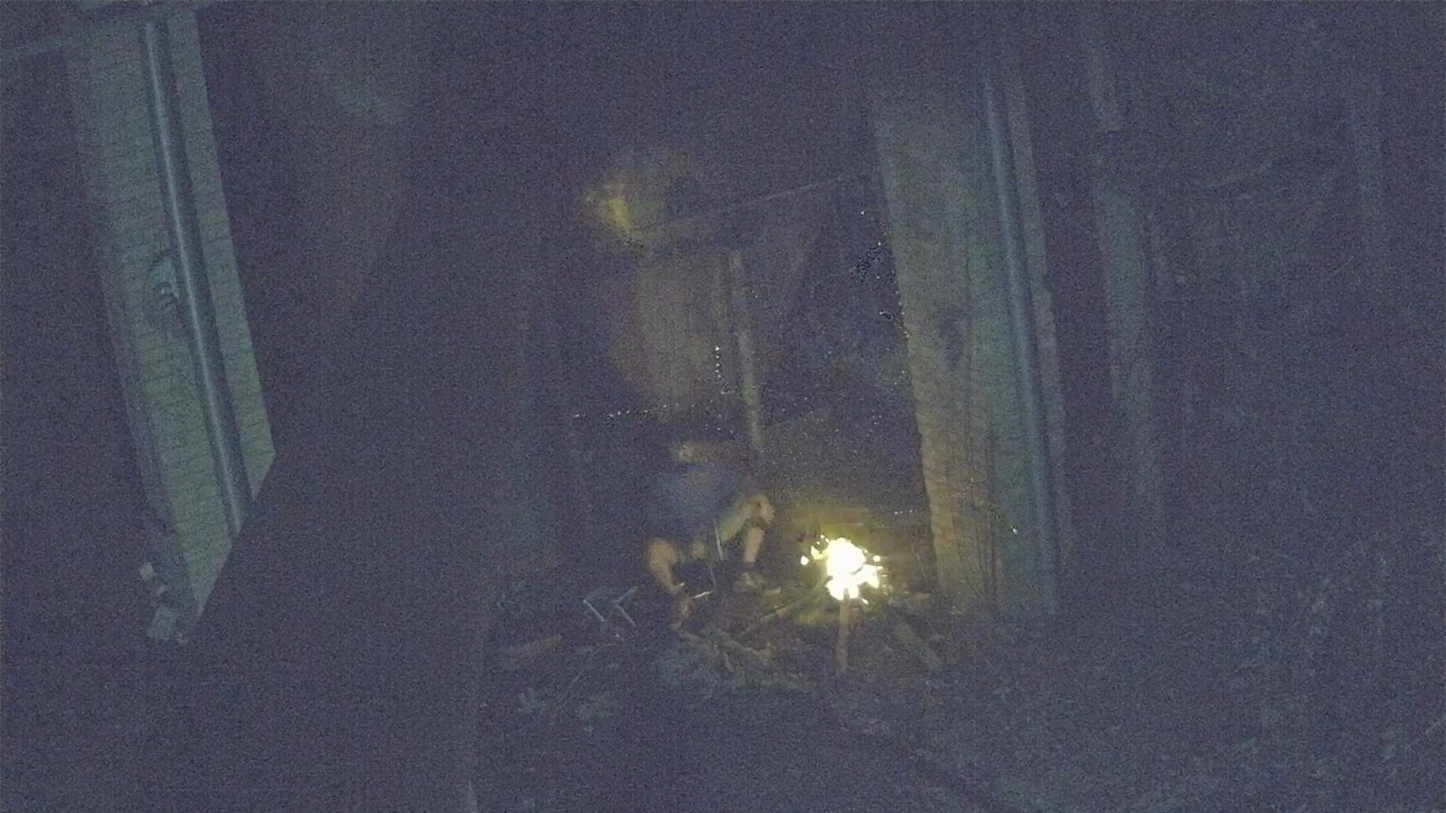fire: (813, 537, 882, 601)
